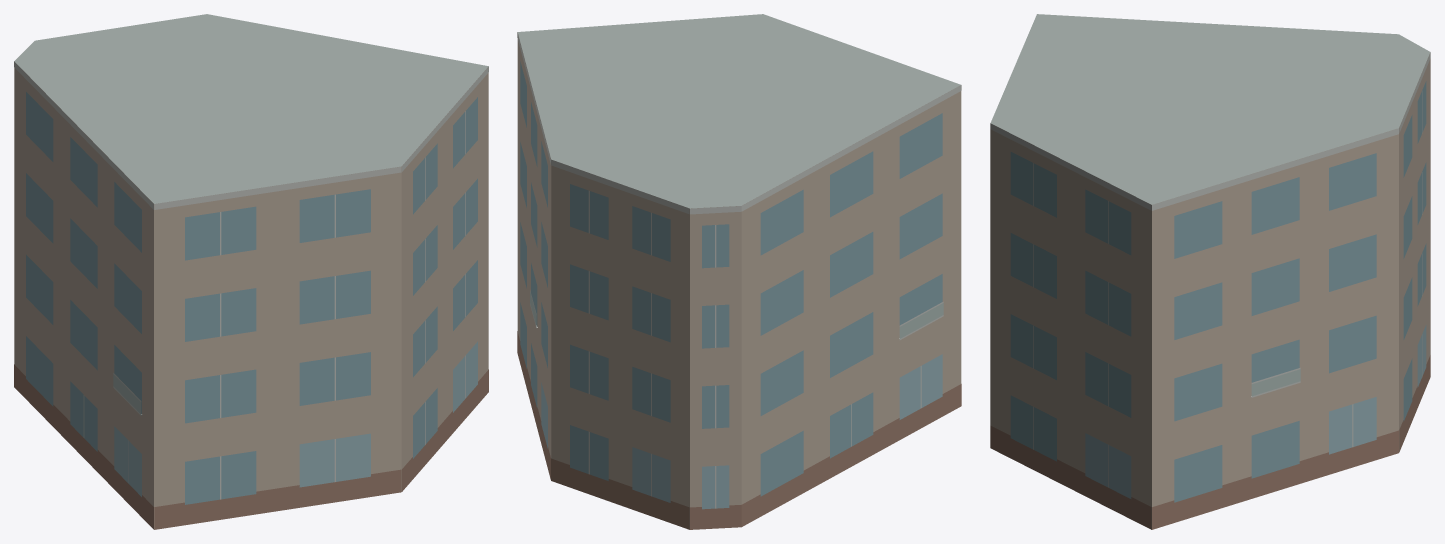
File: survey-upis-32713121.glb
3 views of the same model, side by side, from view 1: azimuth 30°, elevation 25°; view 2: azimuth 150°, elevation 25°; view 3: azimuth 270°, elevation 25° (orthographic).
Parts seen in each view (by area): view 1: survey-upis-32713121.tmp; view 2: survey-upis-32713121.tmp; view 3: survey-upis-32713121.tmp.
Part boxes in pixels (bbox=[...]): survey-upis-32713121.tmp: bbox=[14, 14, 488, 529]; survey-upis-32713121.tmp: bbox=[517, 14, 961, 529]; survey-upis-32713121.tmp: bbox=[990, 14, 1430, 529].
Size of the model in its own units: 16.57 by 13.14 by 16.14.
